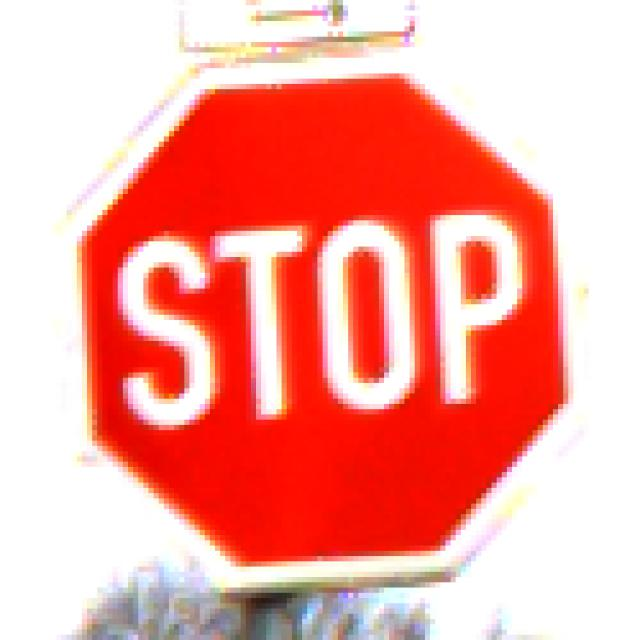STOP: (57, 54, 590, 589)
